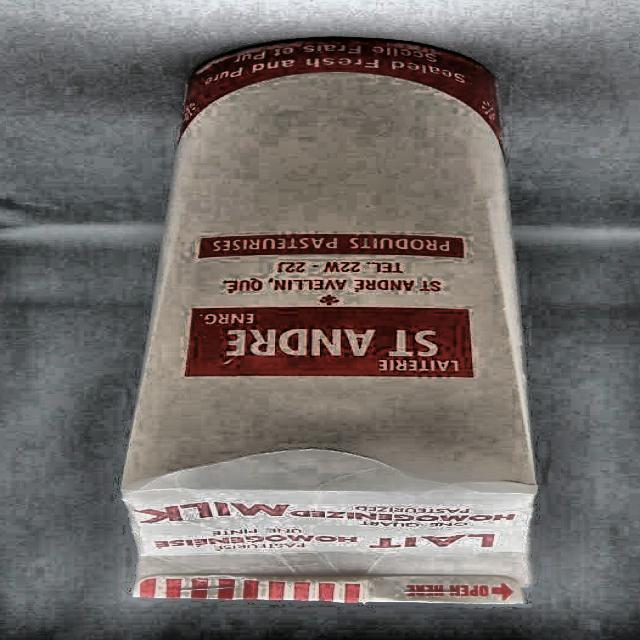cardboard: (119, 38, 540, 604)
